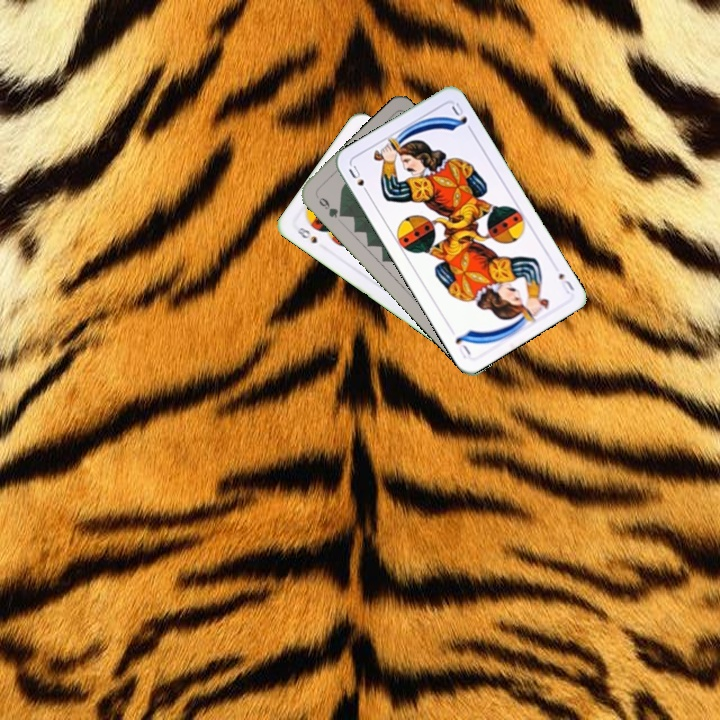G9: (312, 191, 346, 221)
S8: (293, 223, 320, 246)
SU: (344, 161, 372, 198), (554, 269, 577, 297)
